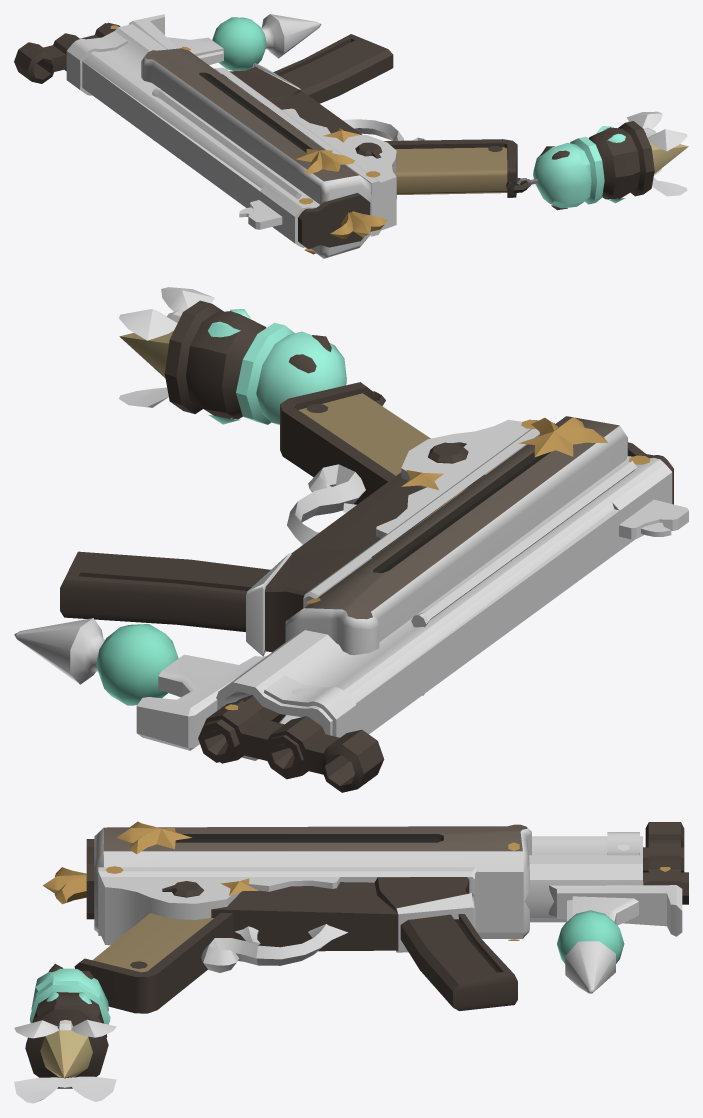
File: airi.glb
The picture shows the model from 3 angles, top to bottom: view 1: azimuth 30°, elevation 25°; view 2: azimuth 150°, elevation 25°; view 3: azimuth 270°, elevation 25°; orthographic projection. The views are drawn at different scales.
Parts seen in each view (by area): view 1: Airi_Original_Weapon; view 2: Airi_Original_Weapon; view 3: Airi_Original_Weapon.
Part boxes in pixels (x1=…): Airi_Original_Weapon: x1=14, y1=14, x2=688, y2=258; Airi_Original_Weapon: x1=14, y1=287, x2=688, y2=792; Airi_Original_Weapon: x1=14, y1=821, x2=688, y2=1103.
Size of the model in its own units: 0.3215 by 0.0703 by 0.3729.
1 material, 1 textured.
